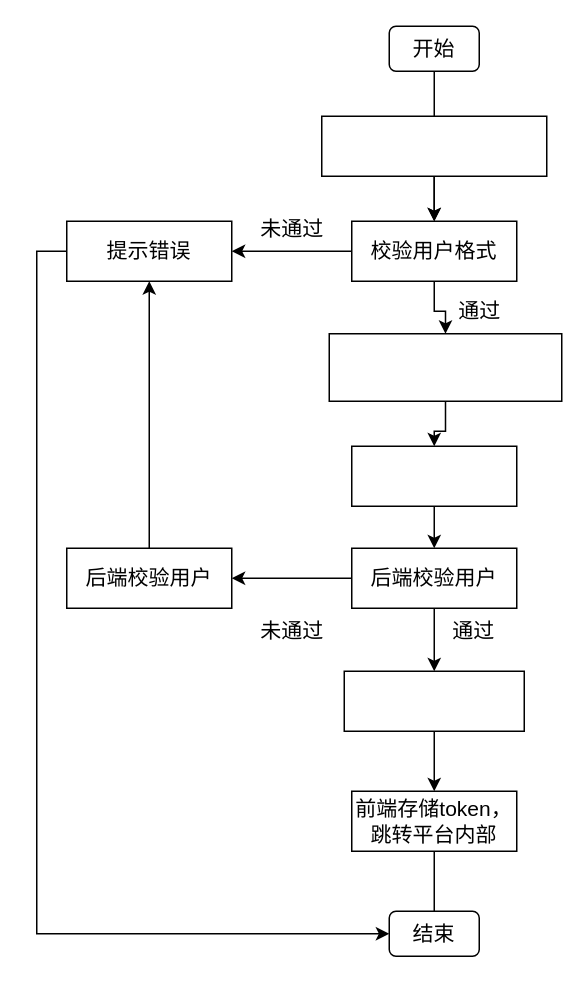
Some shapes in this 588 by 983 pixel diagram are drawn without their labels. Each missing label, with the centre of its shape:
"前端AES加密函数加密数据并请求登录接口" goes at (x=445, y=366).
"后端AES解密函数解析数据" goes at (x=433, y=475).
"后端生成token并返回前端" goes at (x=433, y=700).
"登录界面输入用户账号密码点击登录按钮" goes at (x=433, y=145).
